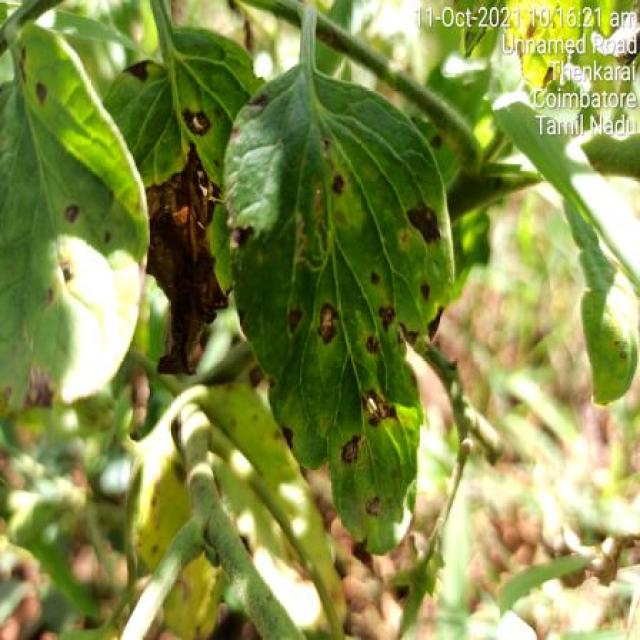Early Blight: (224, 68, 451, 558)
